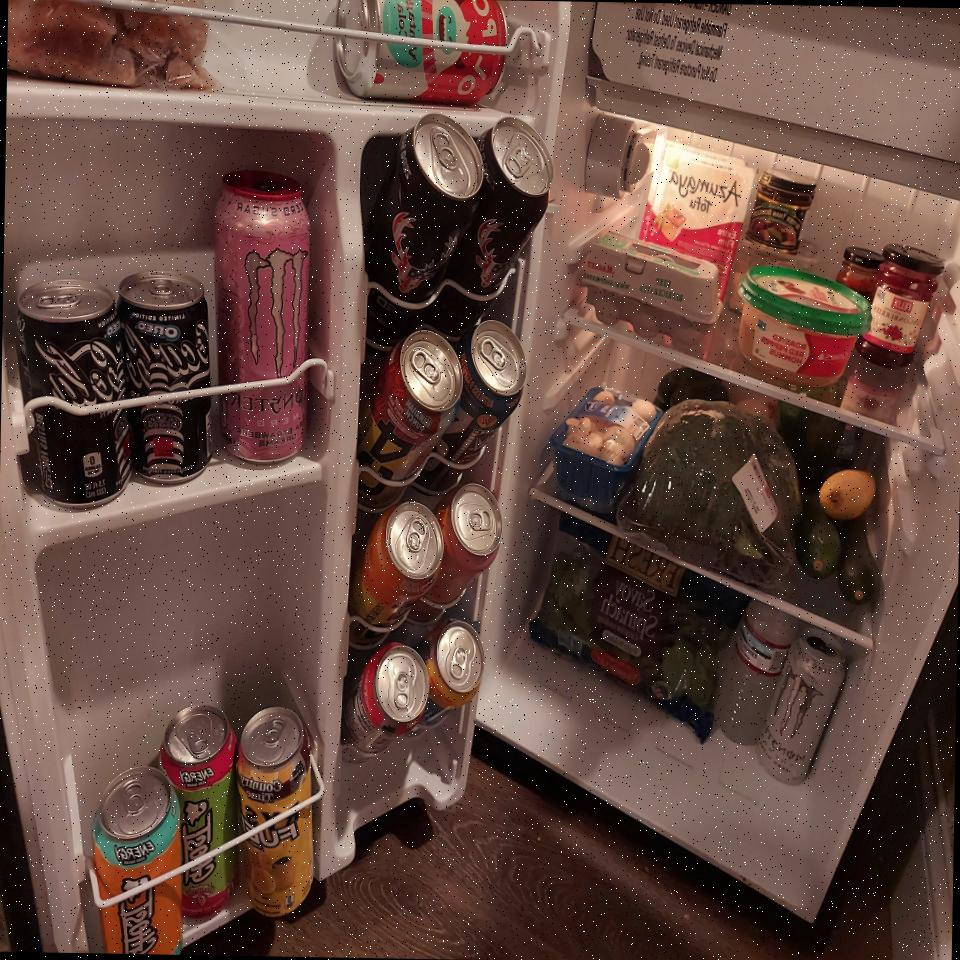Huevos: (578, 230, 726, 347)
